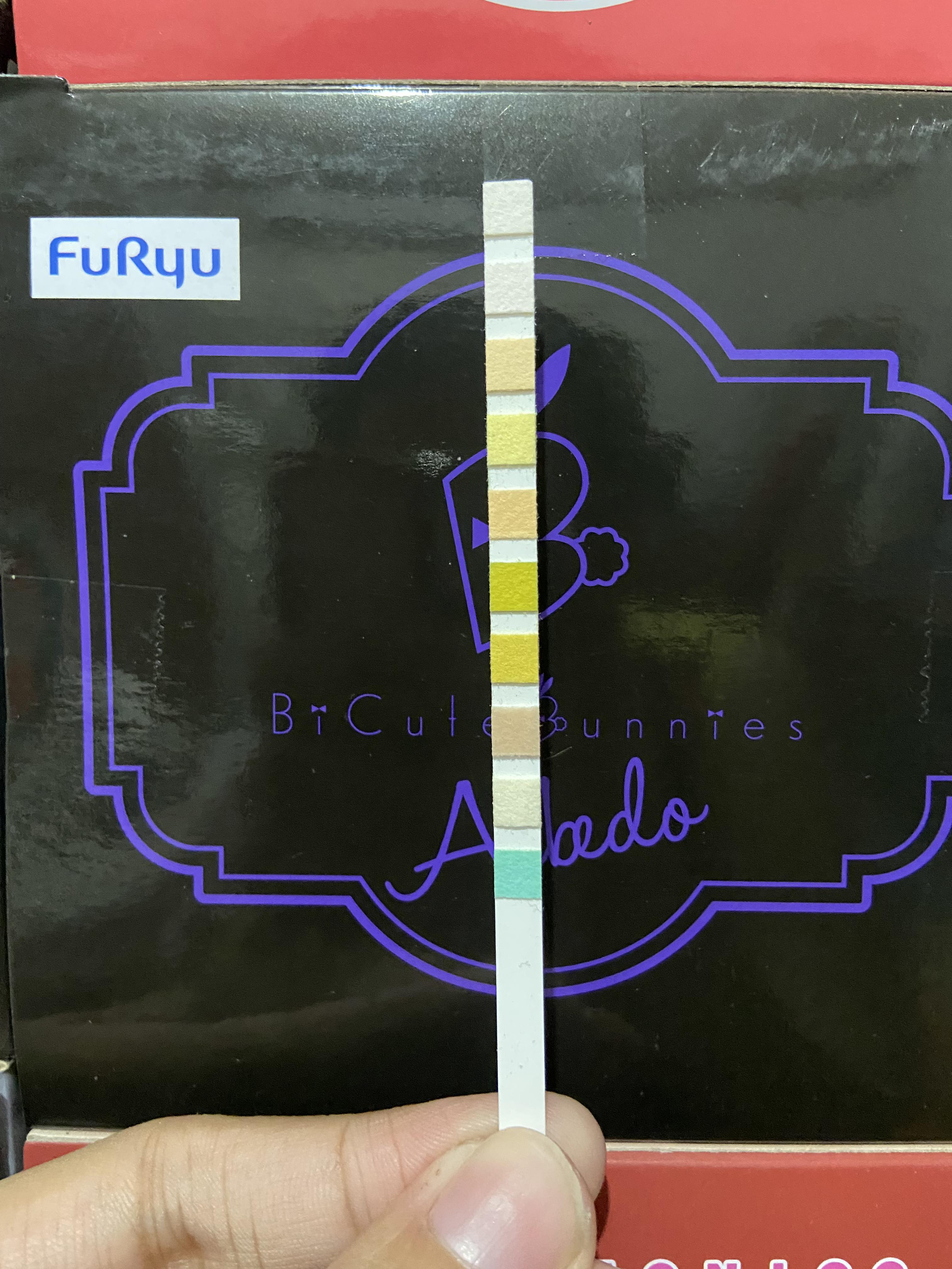Bilirubin: (493, 780, 540, 825)
Blood: (490, 562, 538, 611)
Glucose: (496, 850, 542, 898)
Ketone: (492, 707, 539, 755)
Leukocytes: (484, 184, 532, 233)
Nitrite: (485, 263, 533, 313)
Protein: (487, 416, 535, 464)
SpGravity: (491, 634, 539, 683)
Urobilinogen: (486, 340, 535, 390)
pH: (489, 491, 536, 538)
strip: (484, 181, 546, 1095)
